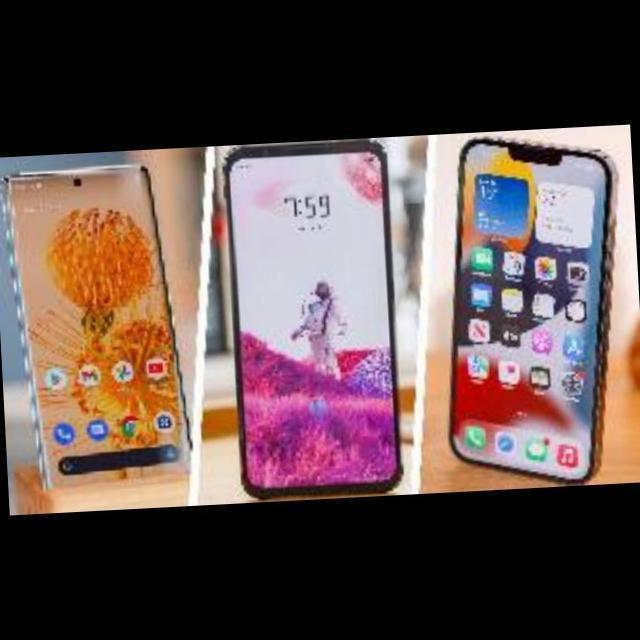phone: (433, 132, 634, 492), (221, 142, 404, 499), (5, 160, 196, 490)
